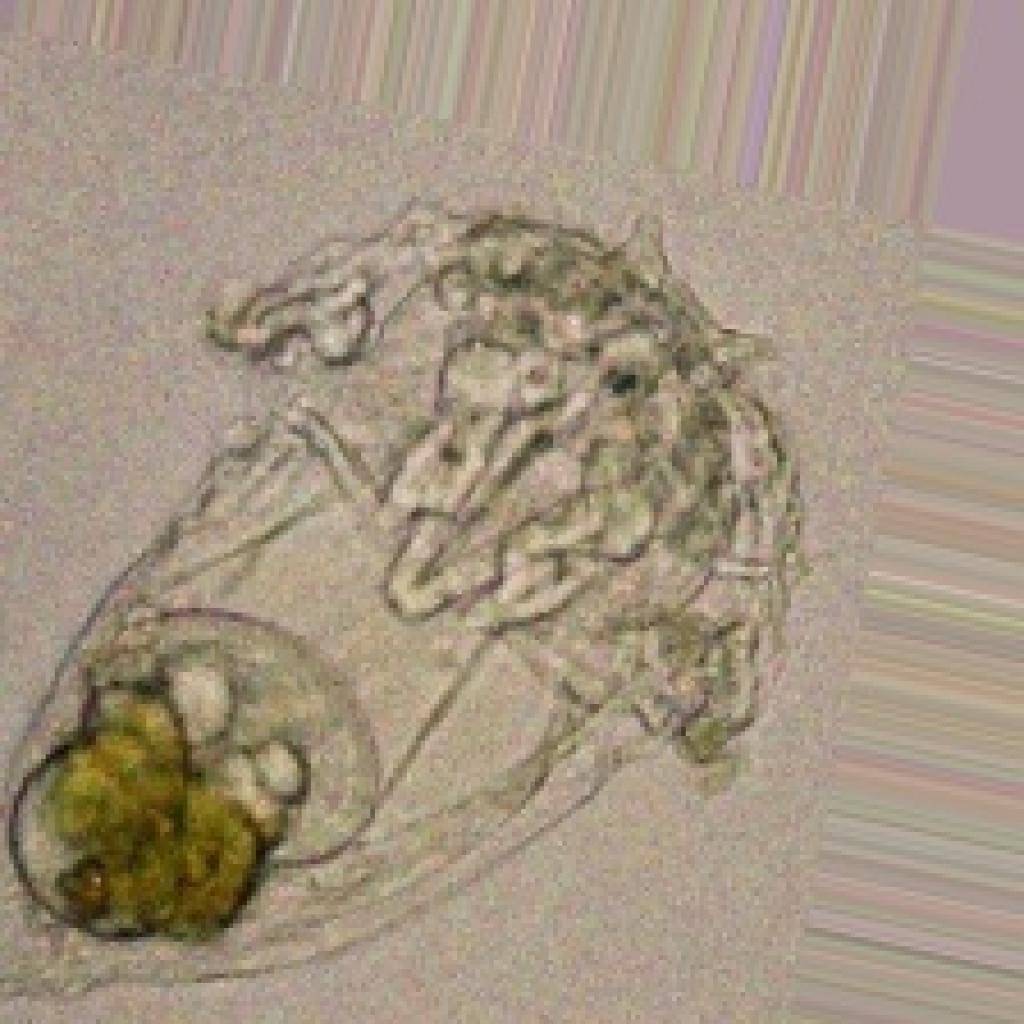Rotifer: (0, 188, 814, 969)
